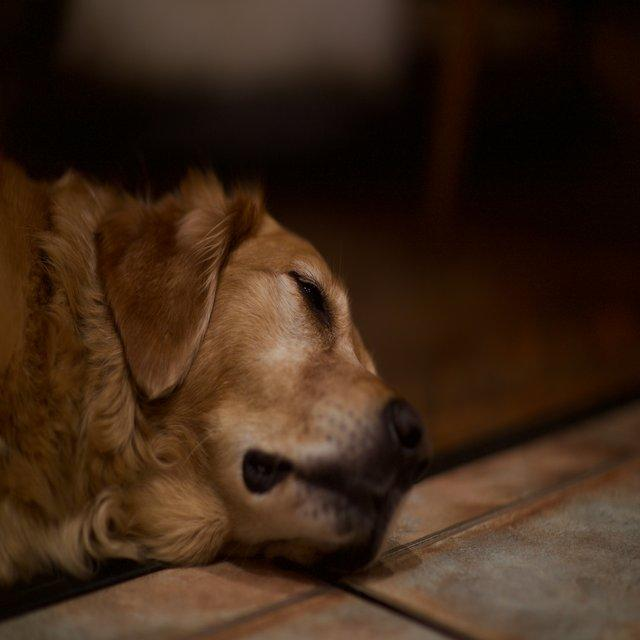retriever: (0, 155, 433, 590)
